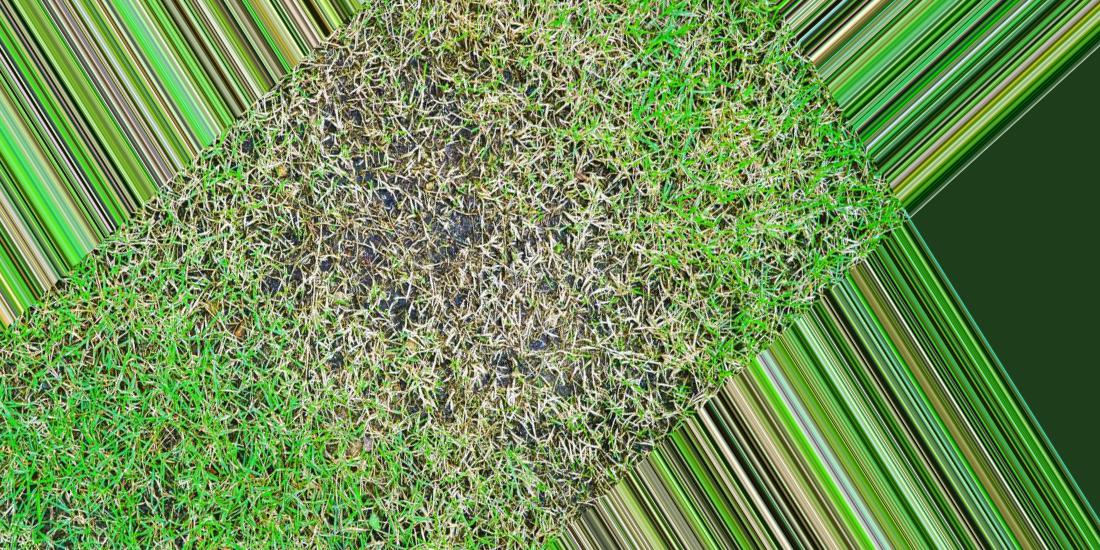patch: (377, 129, 578, 419)
